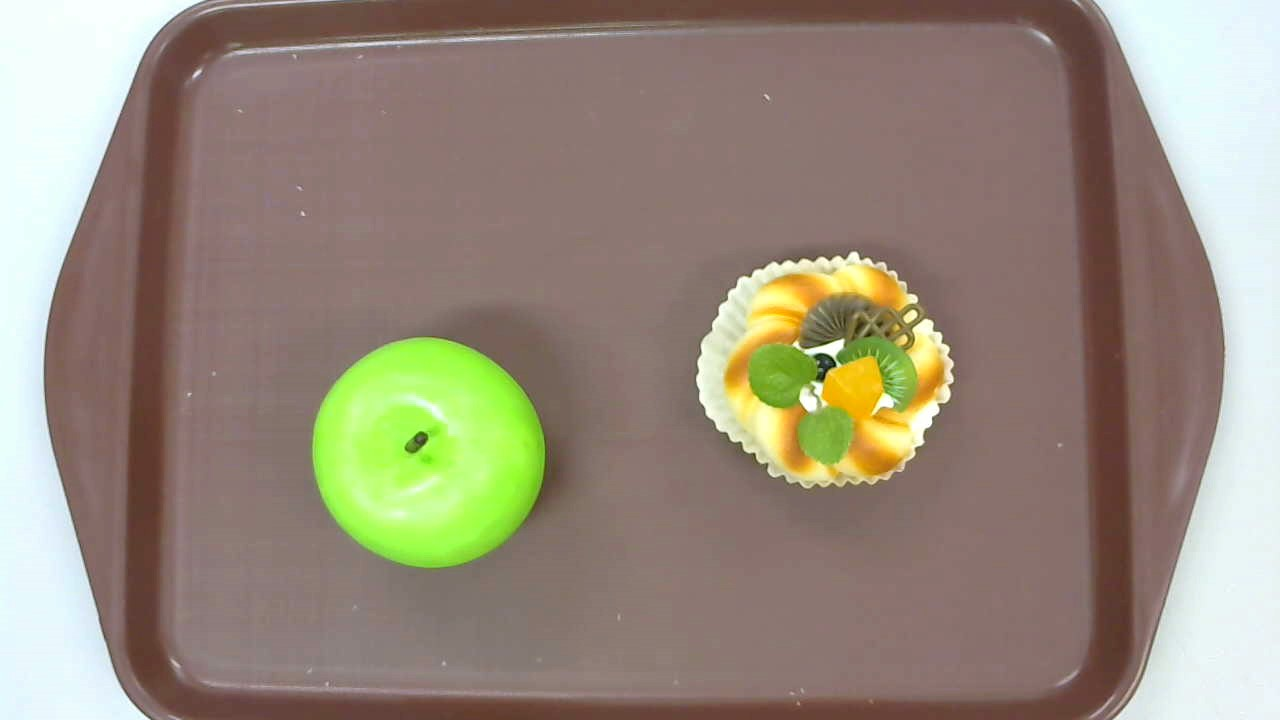fruit tart: (696, 250, 955, 490)
green apple: (312, 334, 545, 568)
